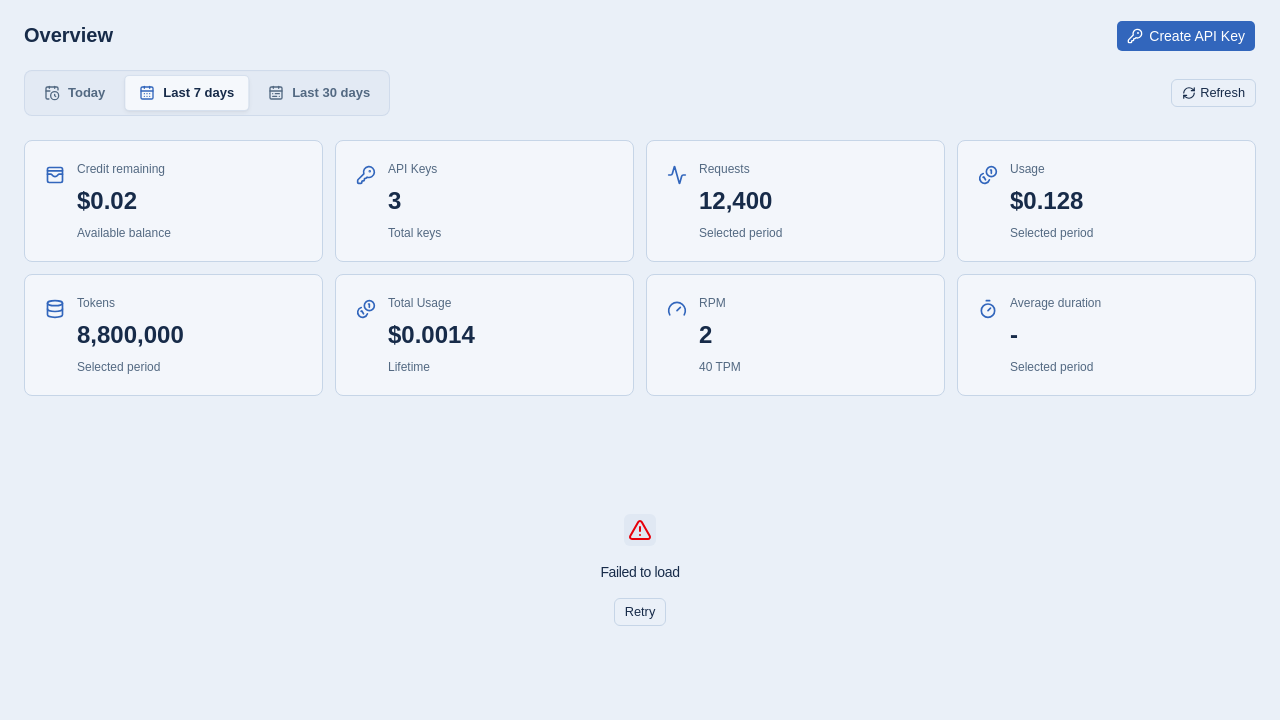
Test: Signal dashboard › failed log queries show retry instead of invented zero metrics
Expected: the text "Failed to load" is shown, [600, 562, 680, 582]
Click the button "Retry" at (640, 612), box [614, 598, 666, 626]
(page scrolled)
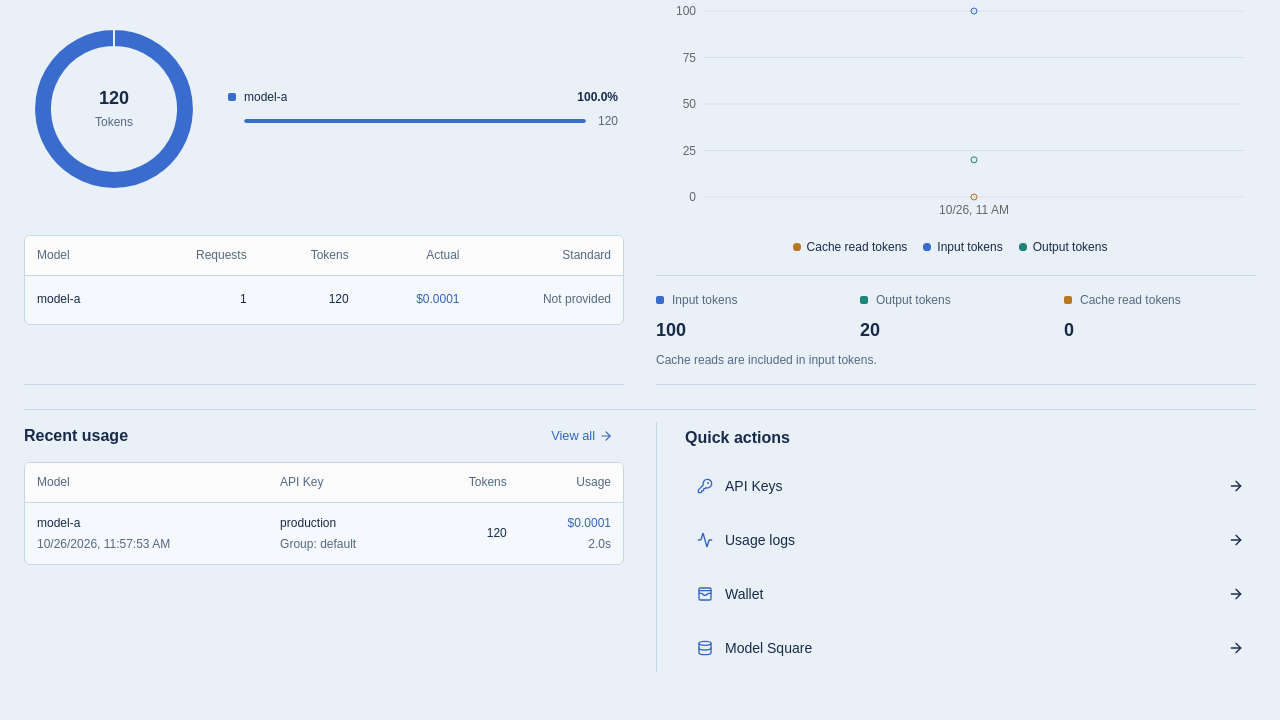
Expected: the element "Recent usage" is shown, [24, 427, 624, 565]
